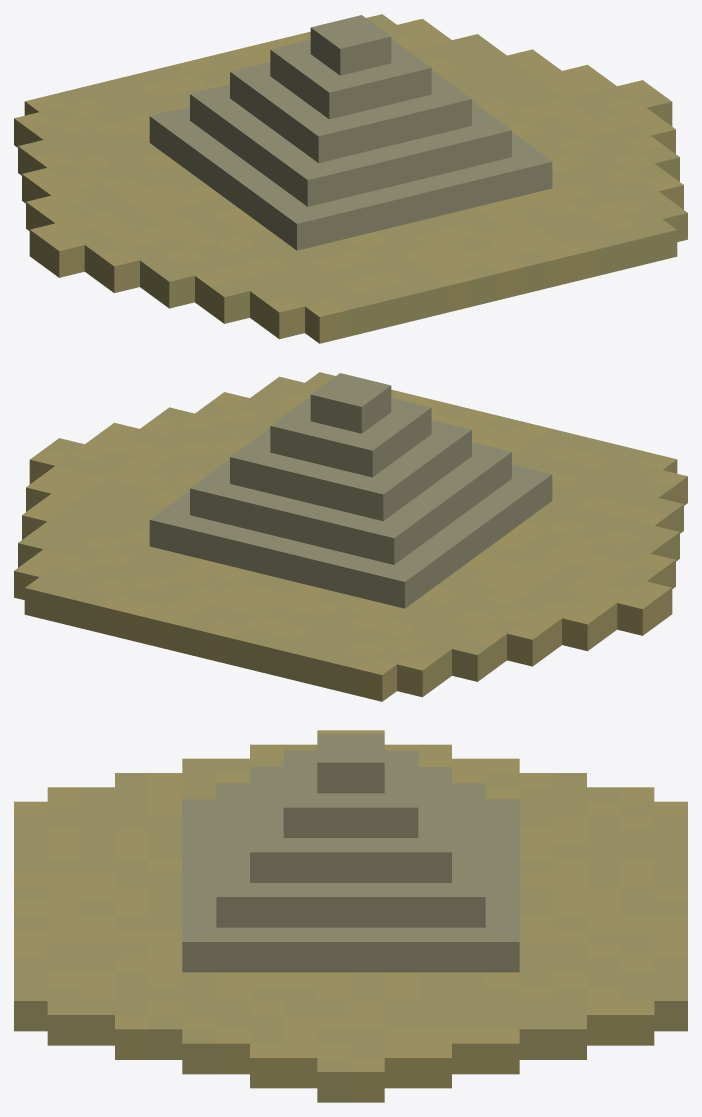
The model's file is overworld-35-sand_pyramid.obj.
3 renders of one model, top to bottom at view 1: azimuth 30°, elevation 25°; view 2: azimuth 150°, elevation 25°; view 3: azimuth 270°, elevation 25°, orthographic. The views are drawn at different scales.
Parts seen in each view (by area): view 1: sand_pyramid; view 2: sand_pyramid; view 3: sand_pyramid.
Boxes of the visible parts, x1=… form: sand_pyramid: x1=14, y1=14, x2=687, y2=343; sand_pyramid: x1=14, y1=372, x2=687, y2=701; sand_pyramid: x1=14, y1=730, x2=687, y2=1102.
Bounding box in the file's own units: 2.4 × 0.6 × 2.
1 material, 1 textured.
